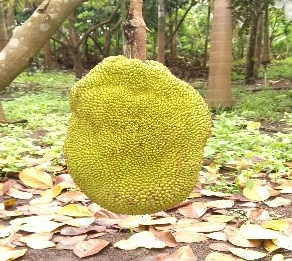Mit: (64, 55, 213, 215)
